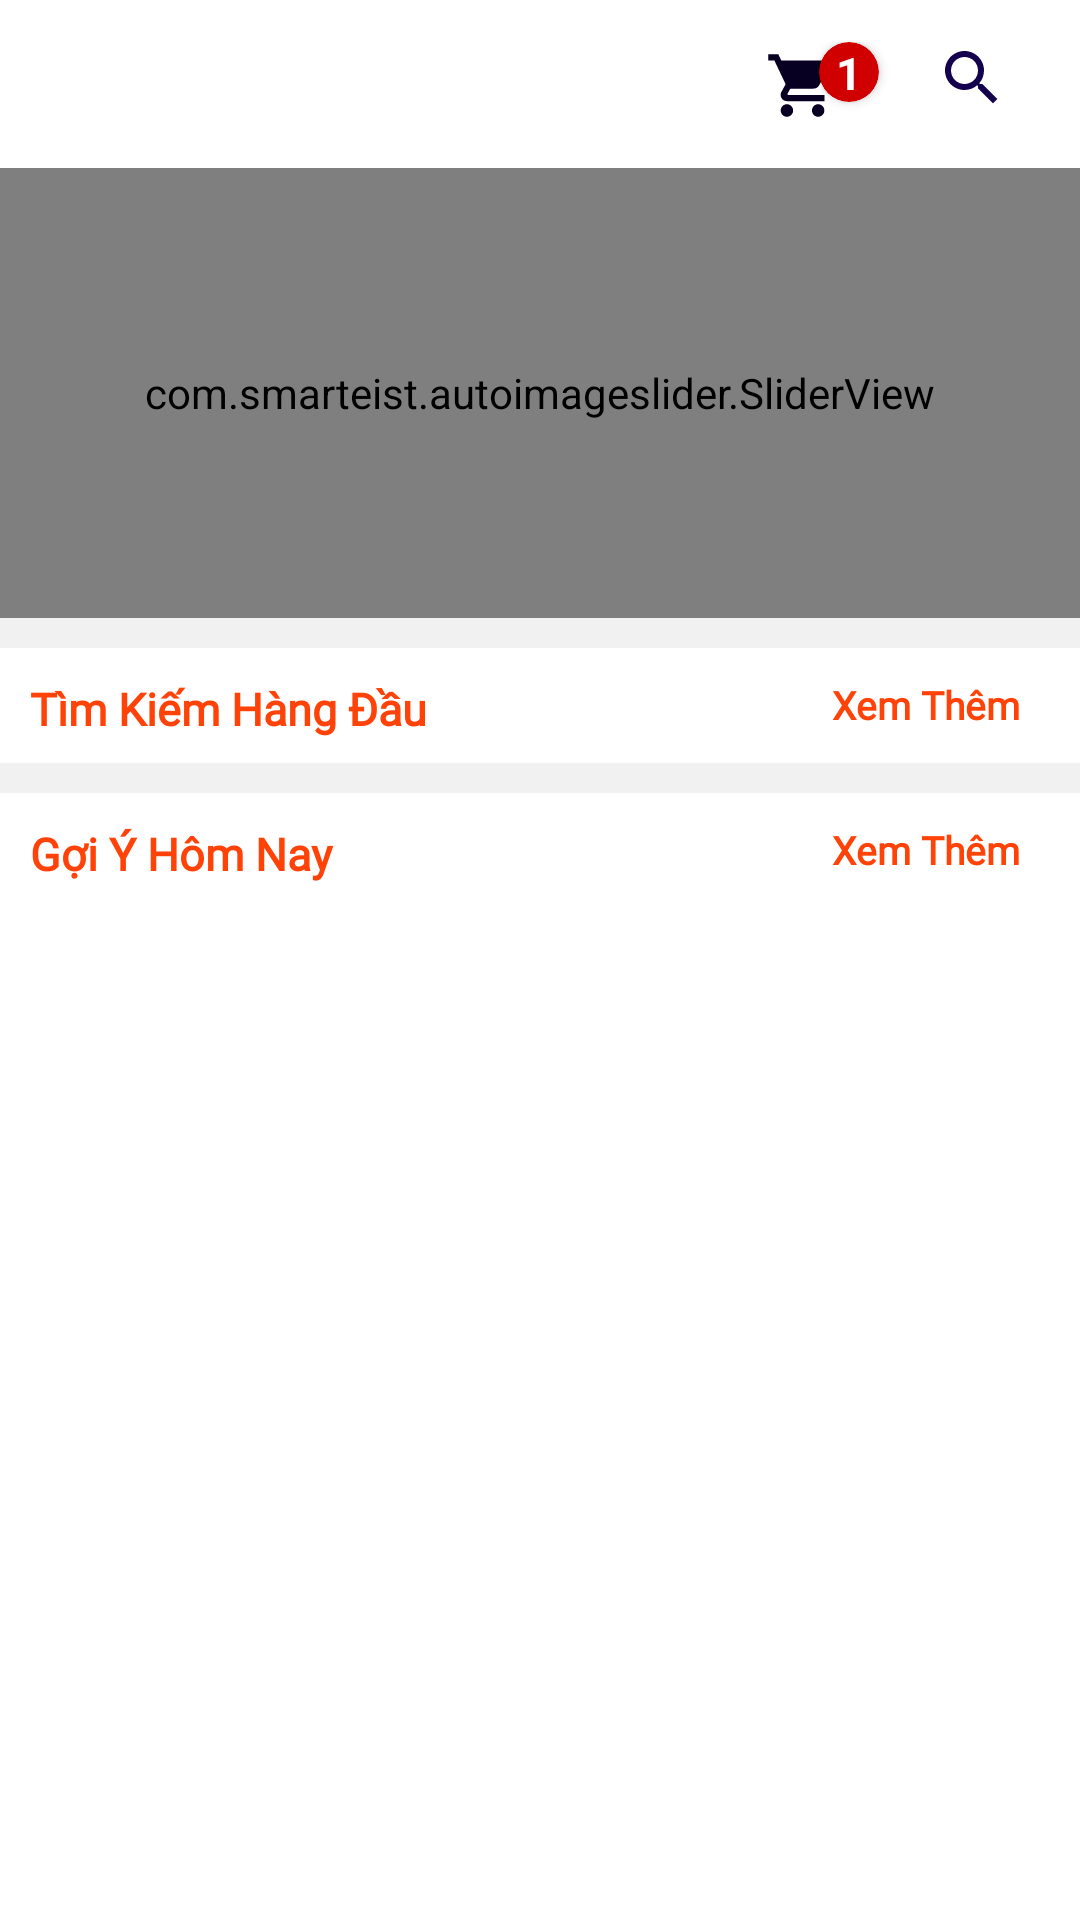

Screen size 1080×1920. Icon name, then its box in pixels as bbox=(x1, y1, x2, y2):
cart: bbox=(768, 48, 840, 117)
search: bbox=(945, 51, 997, 103)
